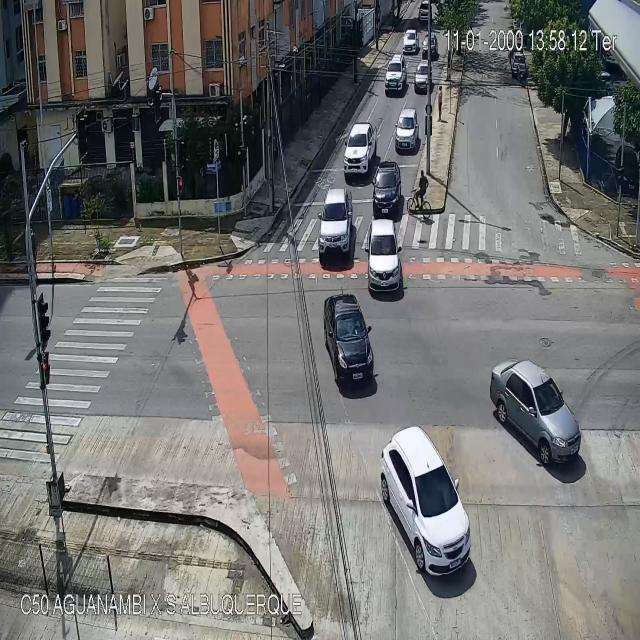Car: (380, 425, 471, 575), (489, 358, 582, 465), (324, 296, 376, 390), (365, 216, 403, 300), (318, 185, 354, 260), (345, 124, 377, 176), (372, 160, 402, 214), (385, 53, 407, 96), (395, 109, 419, 148), (413, 60, 432, 95), (402, 27, 418, 56), (423, 34, 436, 62), (513, 54, 526, 76)
Motorcycle: (516, 63, 526, 83)
